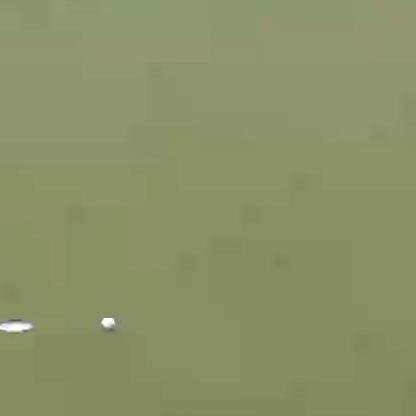golfball: (99, 316, 114, 327)
